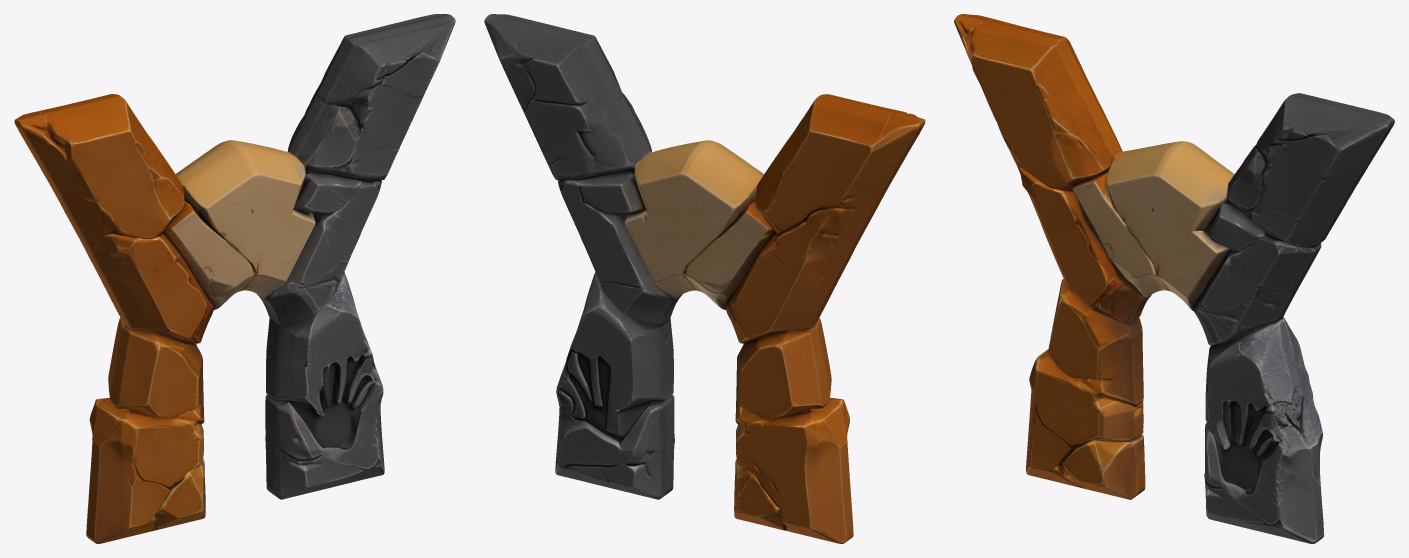
File: stone y sculpture 3d model.glb
3 renders of one model, left to right at view 1: azimuth 30°, elevation 25°; view 2: azimuth 150°, elevation 25°; view 3: azimuth 330°, elevation 25°, orthographic.
Visible parts, largest first — view 1: tripo_node_a10cb661-6d9d-4db4-b567-6dc3b354d5f0; view 2: tripo_node_a10cb661-6d9d-4db4-b567-6dc3b354d5f0; view 3: tripo_node_a10cb661-6d9d-4db4-b567-6dc3b354d5f0.
Boxes of the visible parts, x1=… form: tripo_node_a10cb661-6d9d-4db4-b567-6dc3b354d5f0: x1=14, y1=14, x2=455, y2=543; tripo_node_a10cb661-6d9d-4db4-b567-6dc3b354d5f0: x1=484, y1=14, x2=925, y2=543; tripo_node_a10cb661-6d9d-4db4-b567-6dc3b354d5f0: x1=954, y1=14, x2=1394, y2=543.
Size of the model in its own units: 1 by 0.9684 by 0.1591.
Materials: 1 (1 with a texture image).
